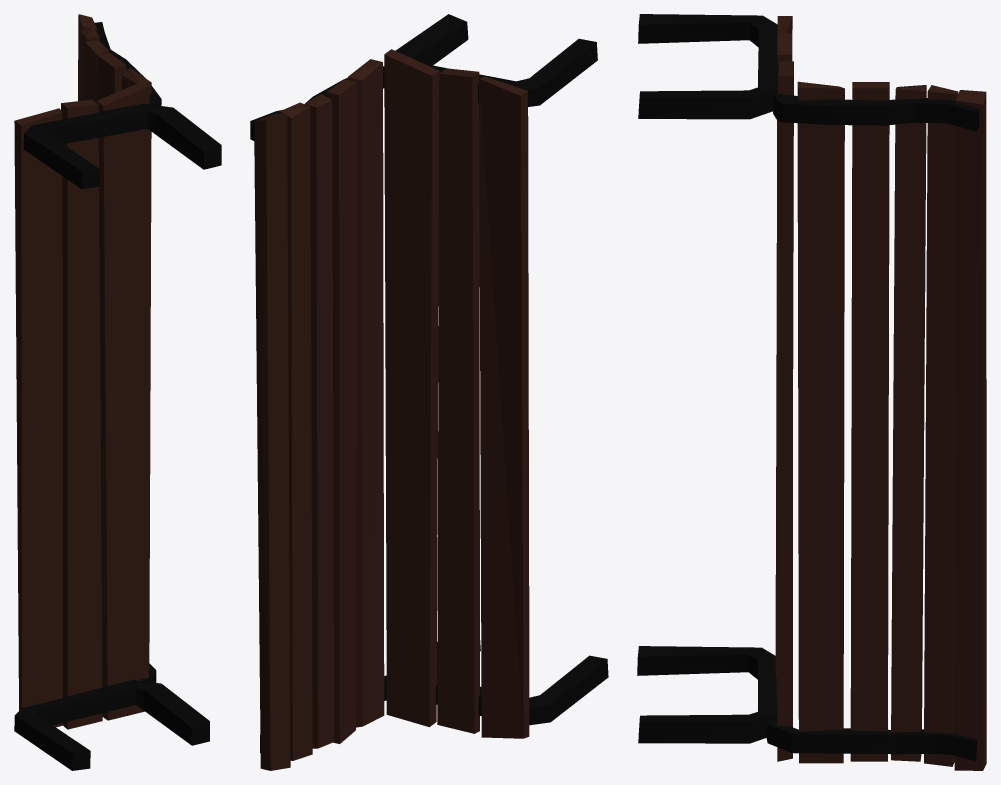
The picture shows the model from 3 angles, left to right: view 1: azimuth 30°, elevation 25°; view 2: azimuth 150°, elevation 25°; view 3: azimuth 270°, elevation 25°; orthographic projection. The views are drawn at different scales.
Visible parts, largest first — view 1: Bench_model.004; view 2: Bench_model.004; view 3: Bench_model.004.
Boxes of the visible parts, x1,y1,x2,y2 form: Bench_model.004: (14, 14, 221, 770); Bench_model.004: (250, 14, 608, 770); Bench_model.004: (637, 14, 986, 770).
Size of the model in its own units: 75.93 by 244 by 113.
